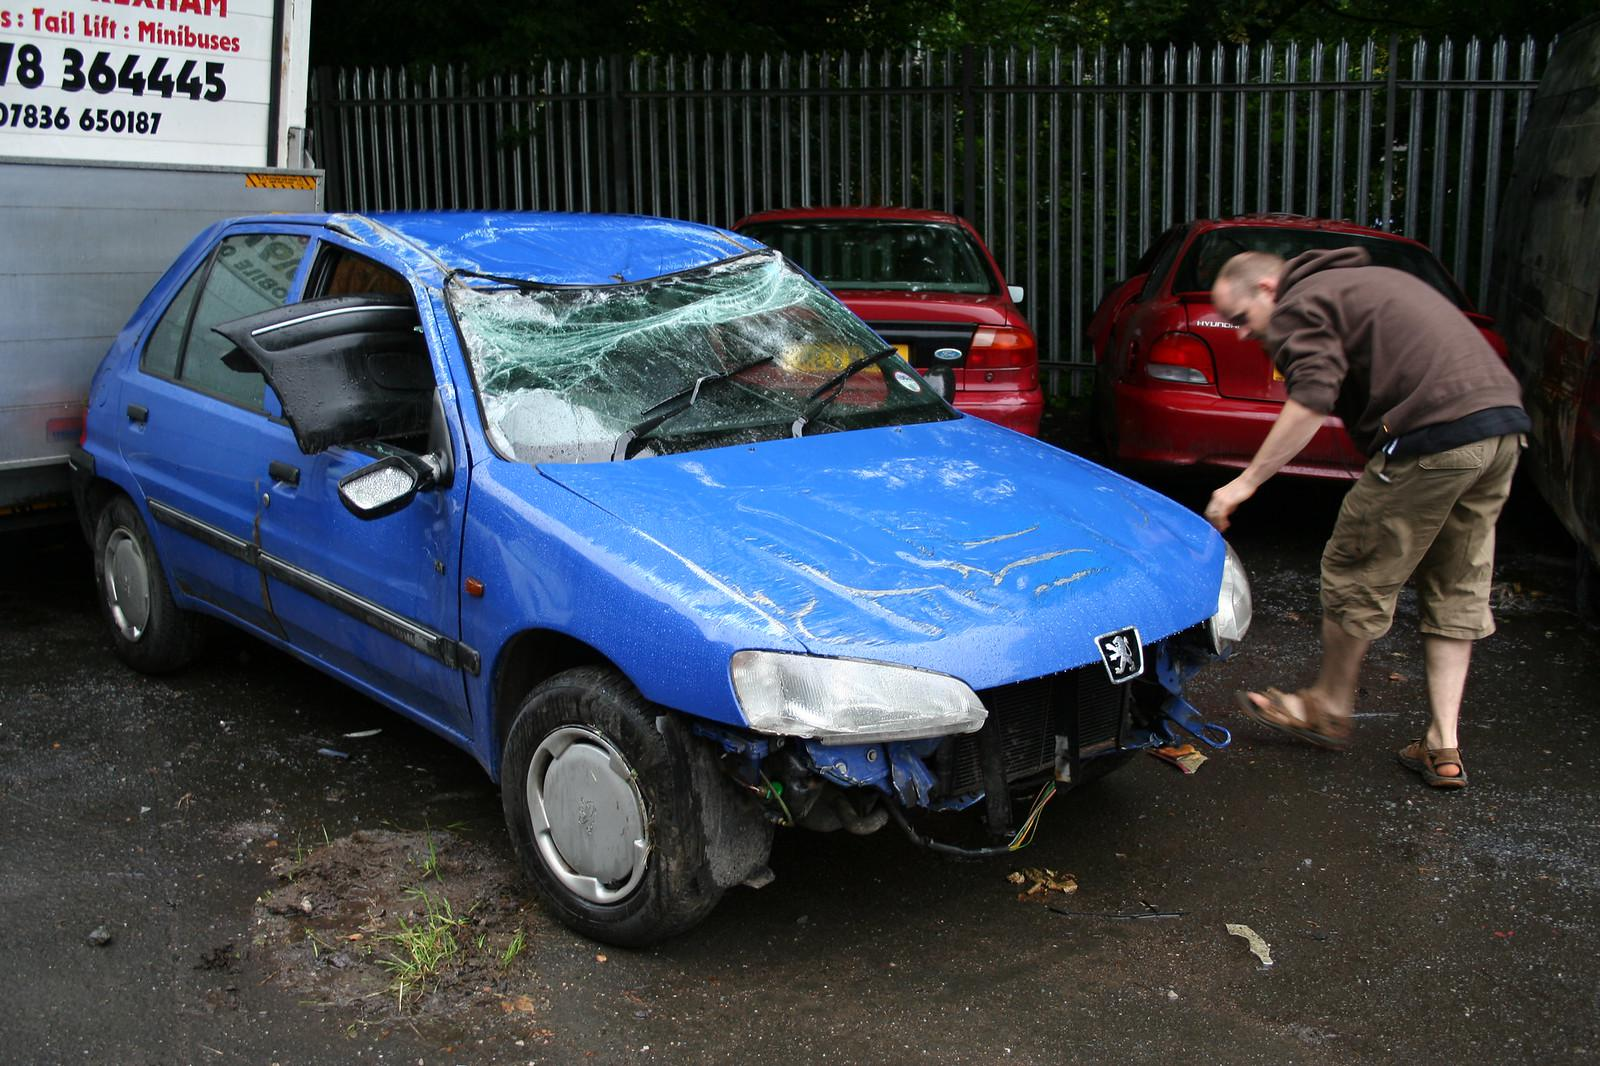Front-Windscreen-Damage: (484, 250, 871, 469)
bonnet-dent: (515, 426, 1166, 656)
front-bumper-dent: (765, 646, 1223, 886)
roof-dent: (215, 197, 784, 283)
